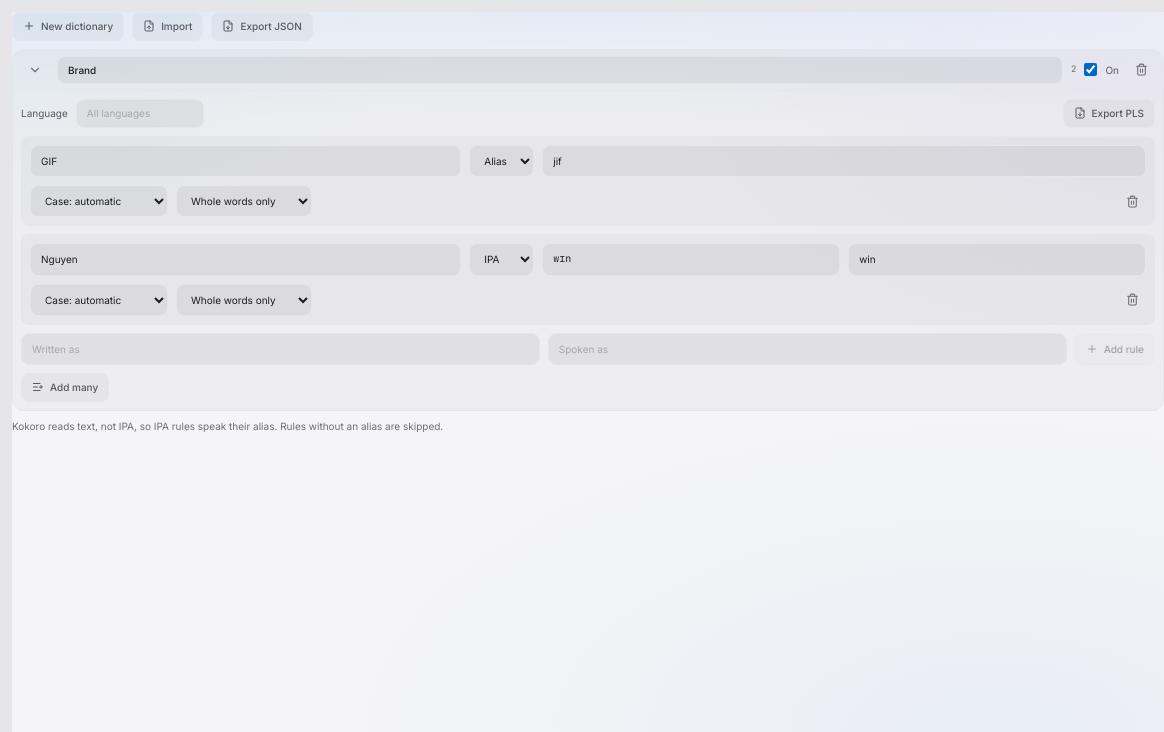
Scenario: PronunciationDictionaryEditor › adds and deletes rules
Expected: the button "Add rule" is disabled, x1=1075 y1=332 x2=1155 y2=365
Type "SQL" into the field named "New rule in Brand: written as" at [280, 349], box x1=21 y1=332 x2=540 y2=365
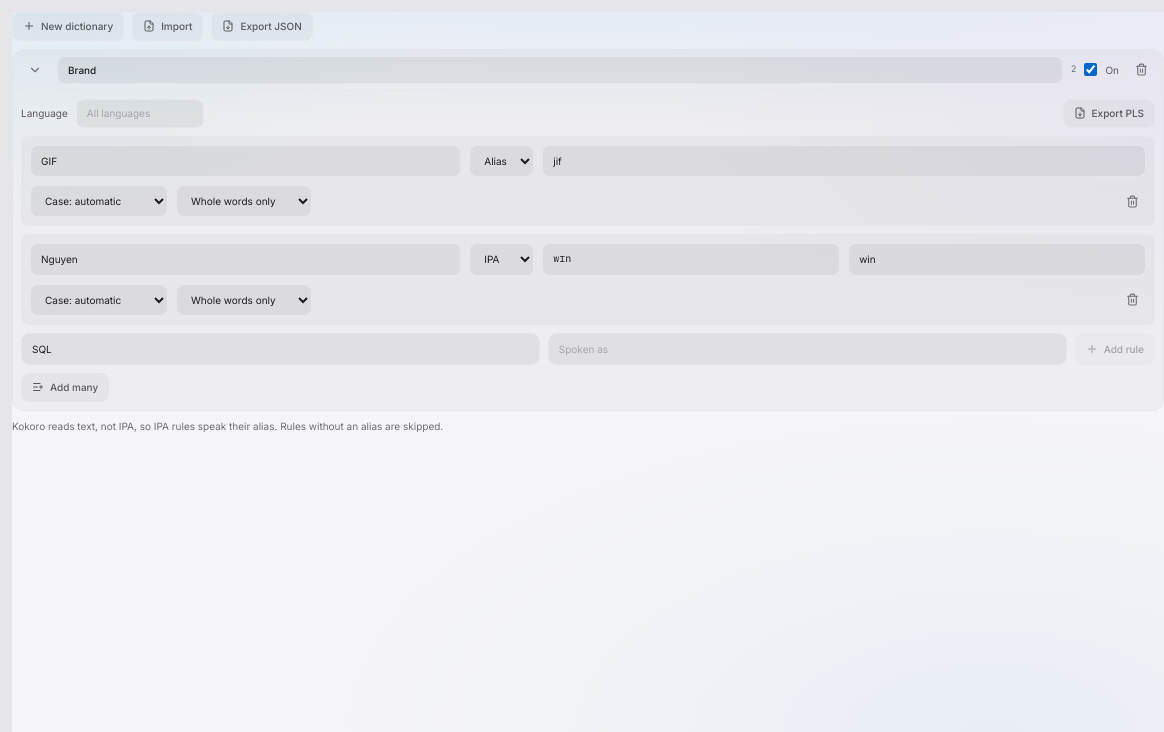
Expected: the button "Add rule" is disabled, x1=1075 y1=332 x2=1155 y2=365
Type "sequel" into the field named "New rule in Brand: spoken as" at [807, 349], box x1=548 y1=332 x2=1067 y2=365
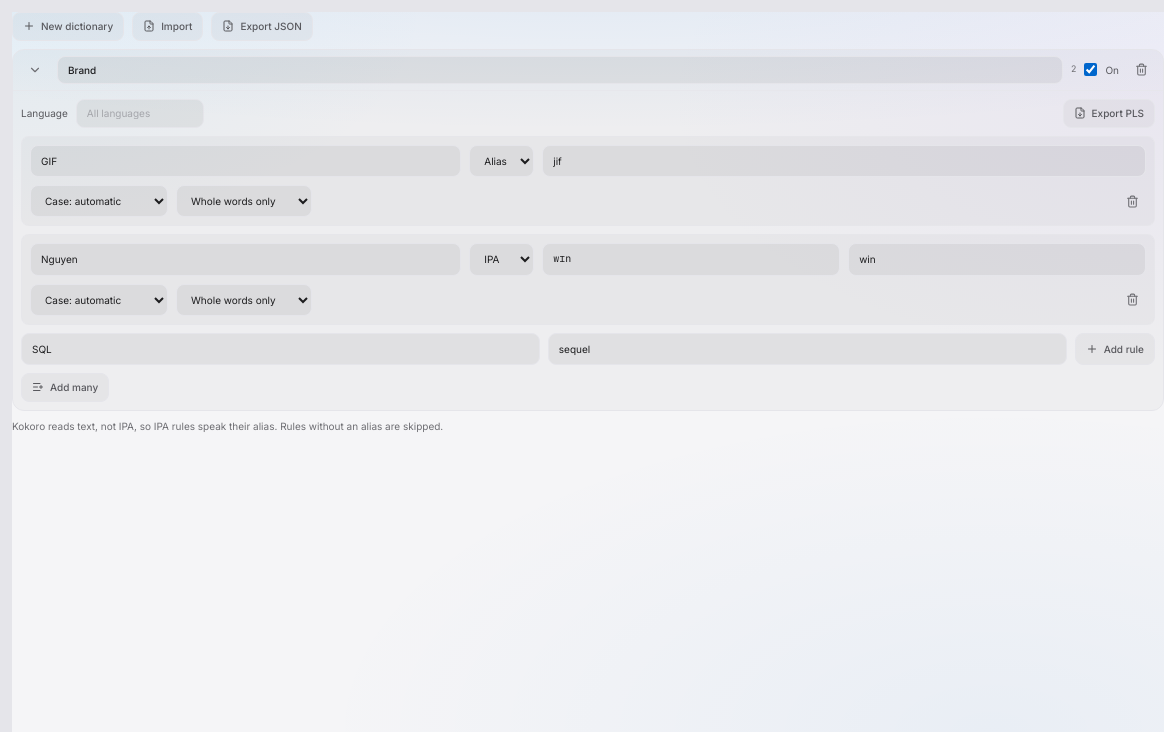
Click the button "Add rule" at [1115, 349], box x1=1075 y1=332 x2=1155 y2=365
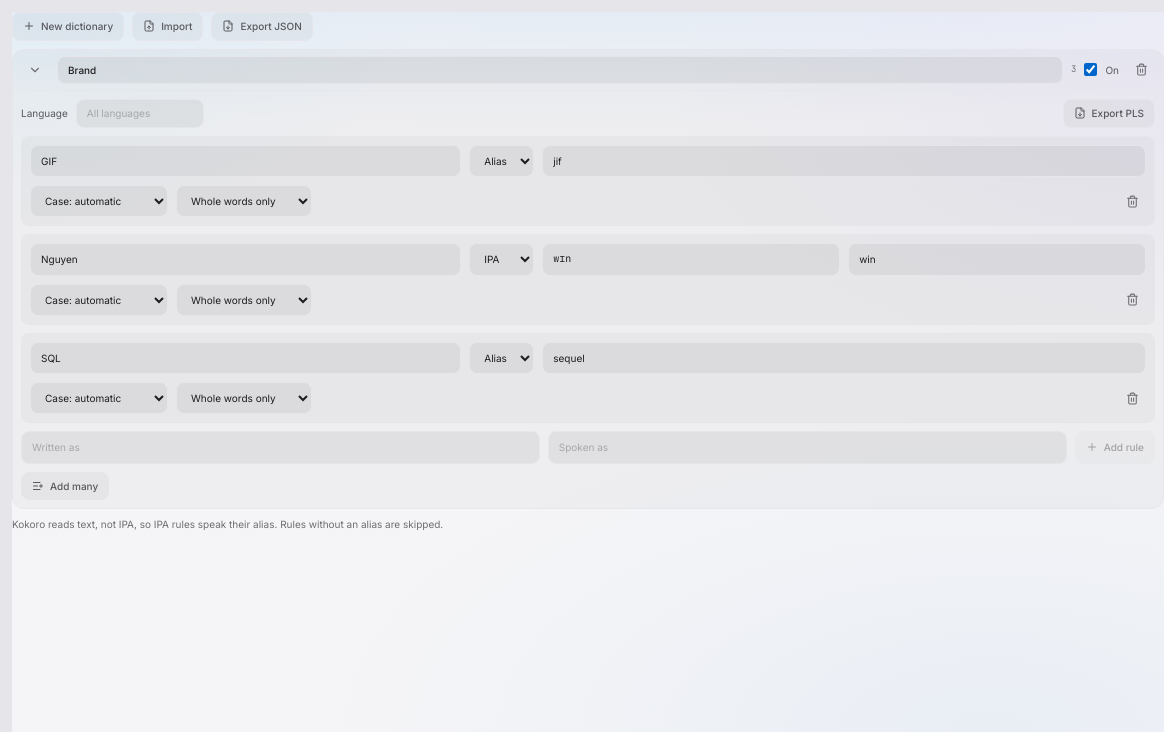
Now the field named "New rule in Brand: written as" is empty, box x1=21 y1=431 x2=540 y2=464
Submit the form named "New rule in Brand: written as", box x1=21 y1=431 x2=1155 y2=464
Click the button named "Delete Rule 1" at [1132, 201], box x1=1118 y1=187 x2=1146 y2=215
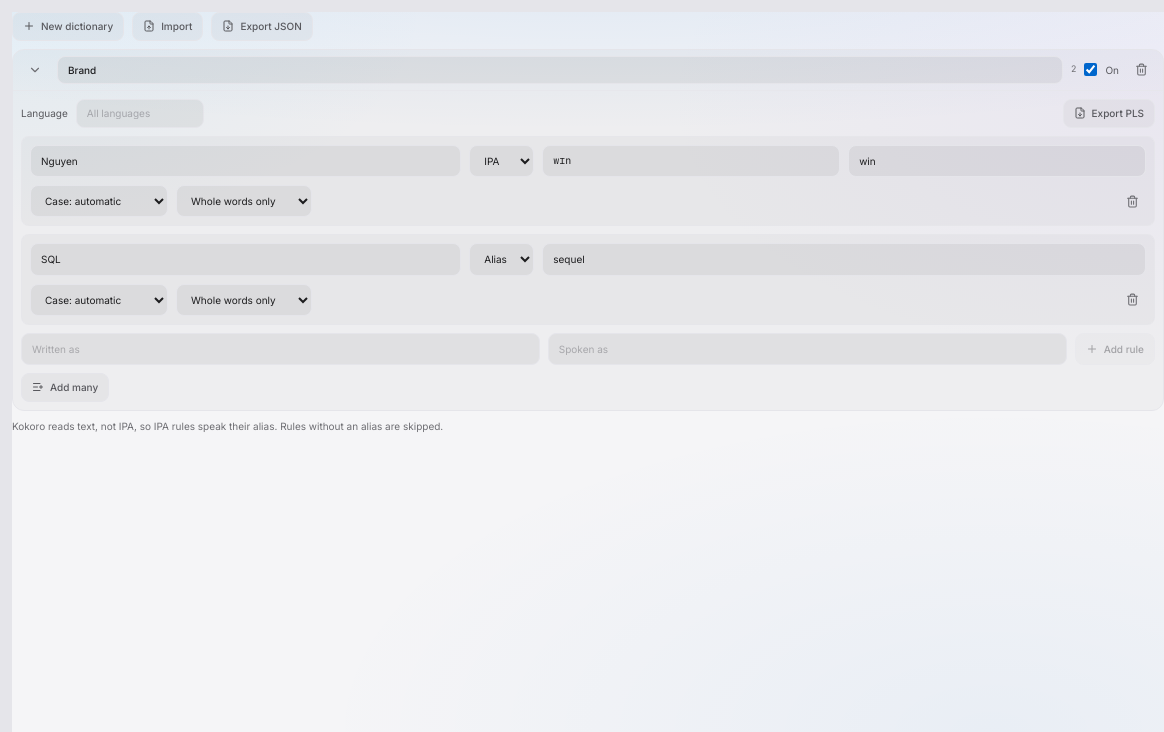
Now the field named "Rule 1 written word" holds "Nguyen", box x1=30 y1=144 x2=461 y2=177
